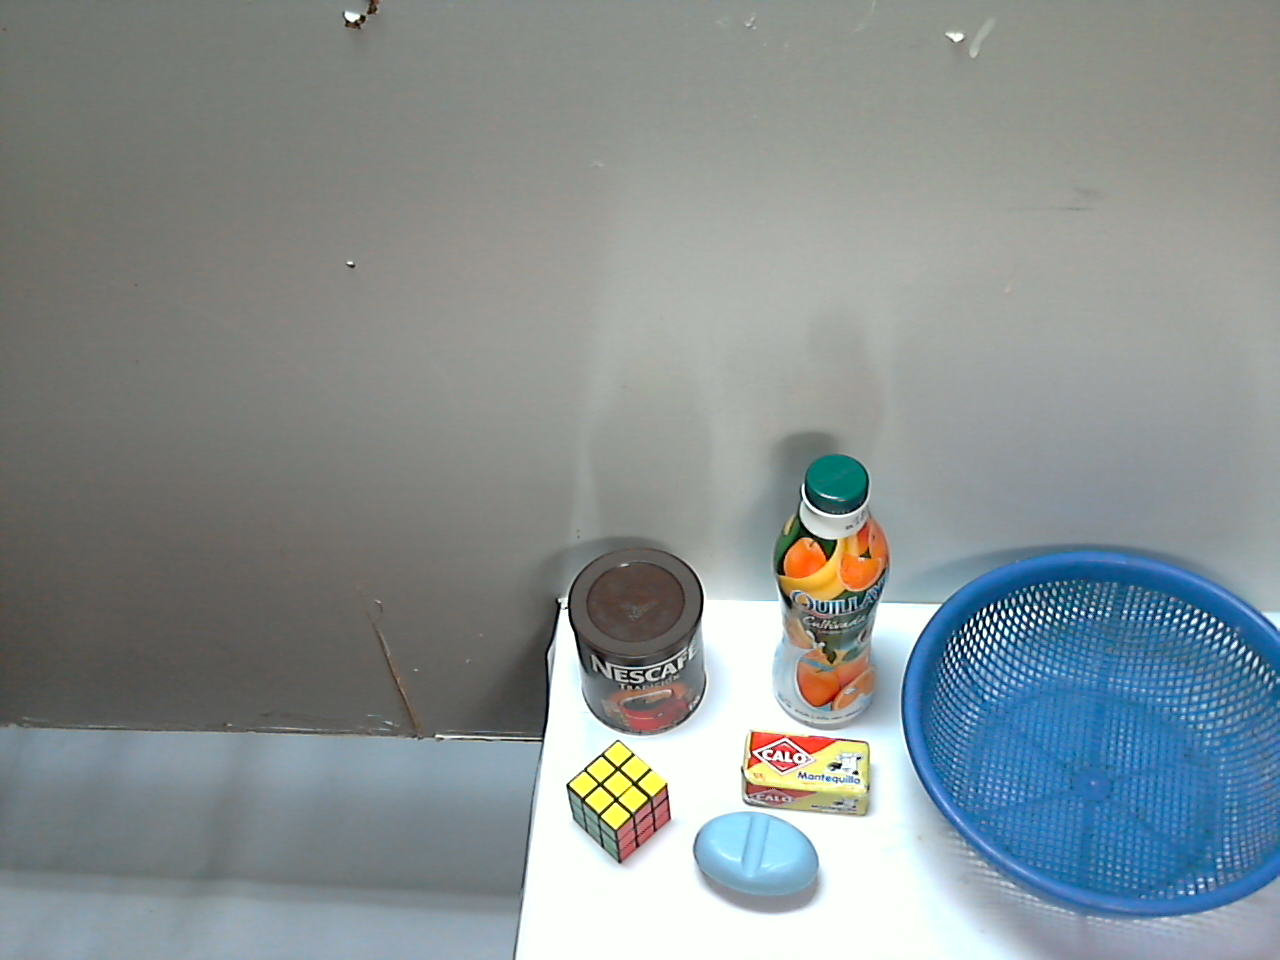aceite: (583, 463, 727, 747)
borrador: (773, 764, 889, 960)
cera: (780, 453, 933, 761)
estuche: (452, 717, 617, 938)
jugoind: (673, 741, 760, 909)
platoperro: (903, 742, 1230, 960)
